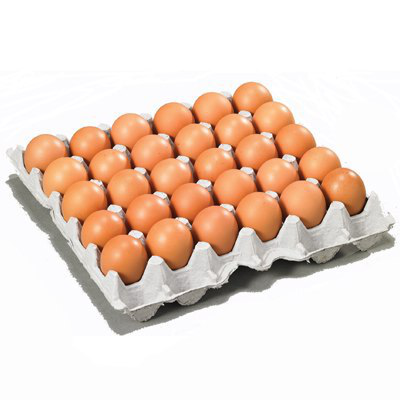egg: (23, 82, 369, 285)
